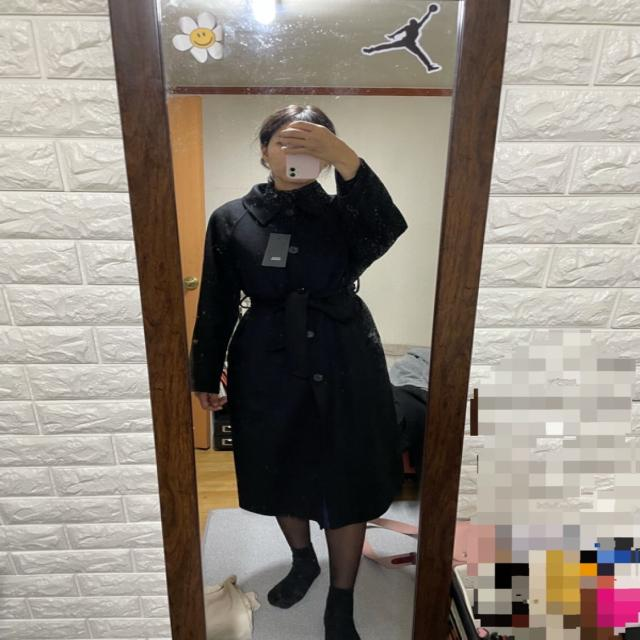coat: (190, 154, 410, 530)
